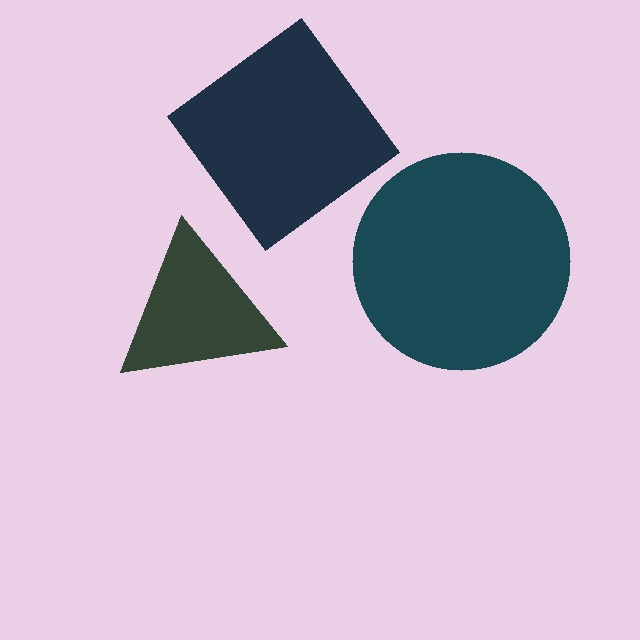circle: (352, 152, 571, 371)
square: (167, 17, 400, 251)
triangle: (120, 215, 288, 373)
